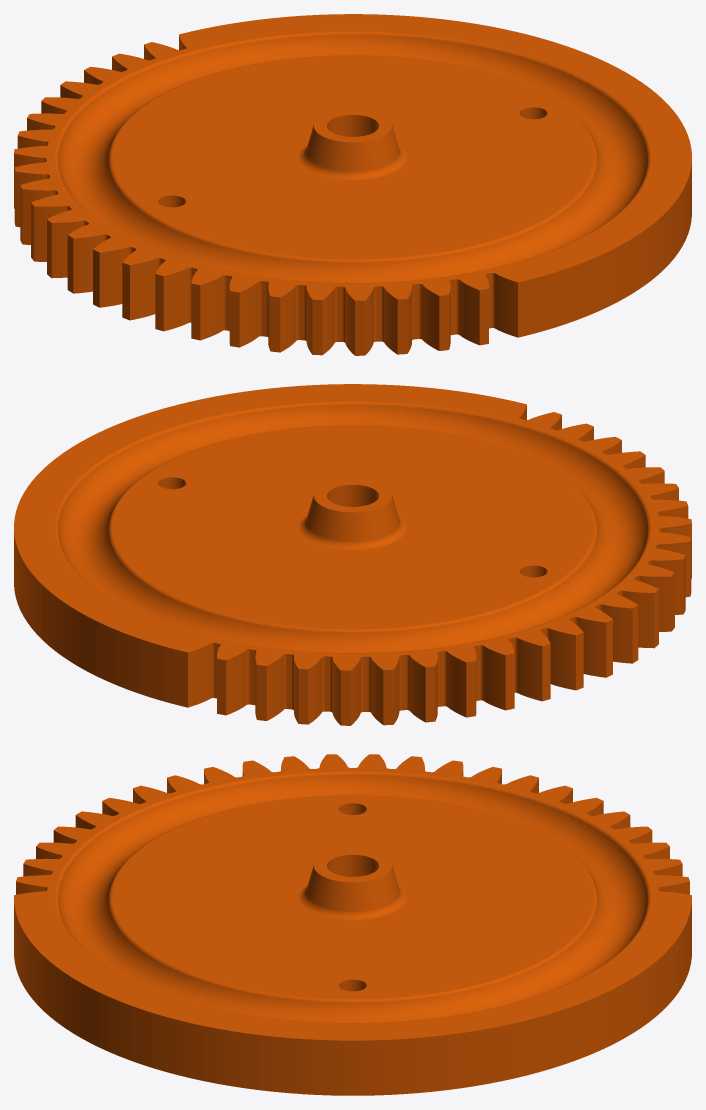
File: EEZYbotARM_Mk2_011_gearmast_visual_vis_1.dae
The picture shows the model from 3 angles, top to bottom: view 1: azimuth 30°, elevation 25°; view 2: azimuth 150°, elevation 25°; view 3: azimuth 270°, elevation 25°; orthographic projection.
Visible parts, largest first — view 1: node; view 2: node; view 3: node.
Boxes of the visible parts, bbox=[...] form: node: bbox=[14, 14, 691, 355]; node: bbox=[14, 384, 691, 725]; node: bbox=[14, 754, 691, 1095].
Bounding box in the file's own units: 0.0779 × 0.011 × 0.078.
